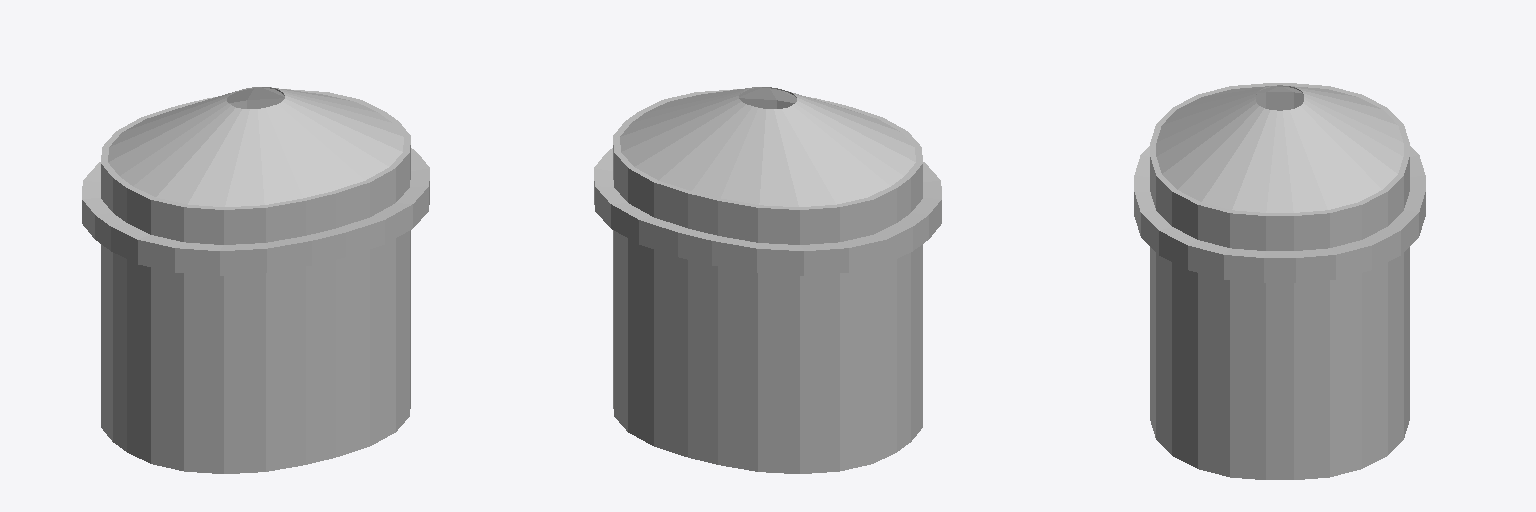
The model's file is JokuIhmeenSaavi.obj.
The picture shows the model from 3 angles: view 1: azimuth 30°, elevation 25°; view 2: azimuth 150°, elevation 25°; view 3: azimuth 270°, elevation 25°; orthographic projection.
Visible parts, largest first — view 1: Cube; view 2: Cube; view 3: Cube.
Boxes of the visible parts, box(x1,y1,x2,y2) form: Cube: box(82, 87, 429, 473); Cube: box(594, 87, 941, 473); Cube: box(1134, 83, 1425, 479).
Bounding box in the file's own units: 6.8 × 6.7 × 5.6.